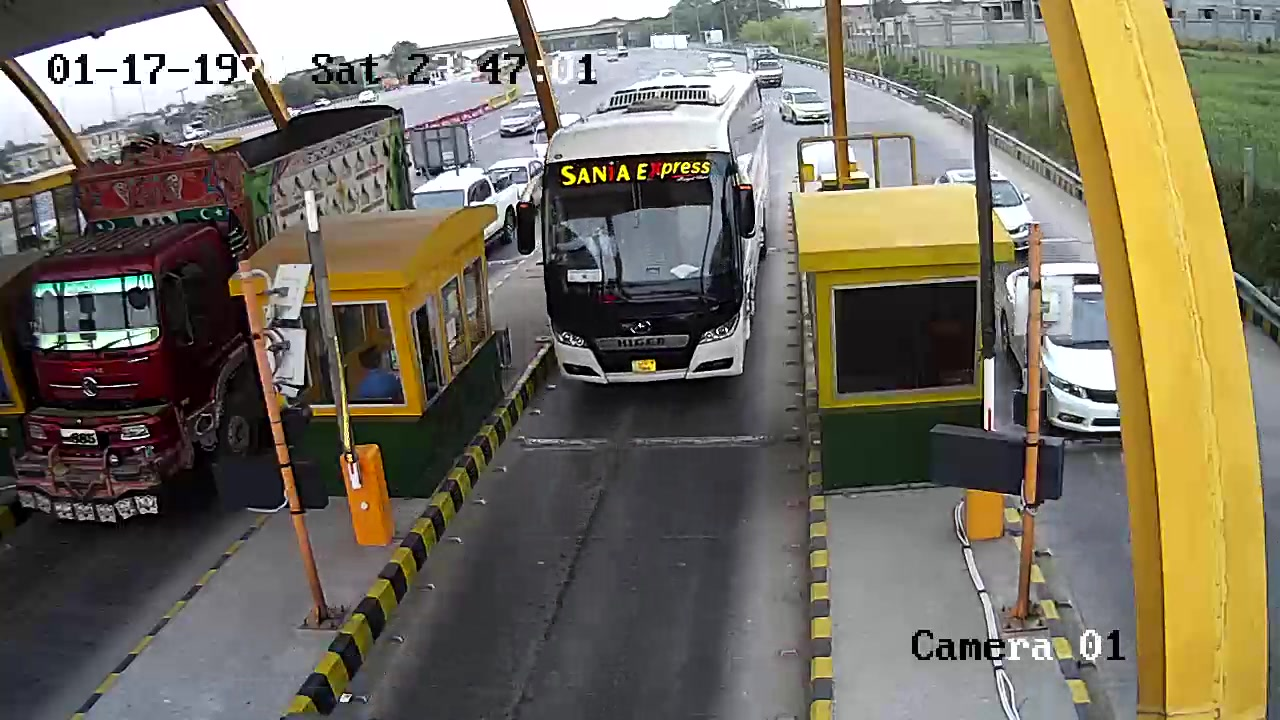F4: (542, 64, 768, 390)
